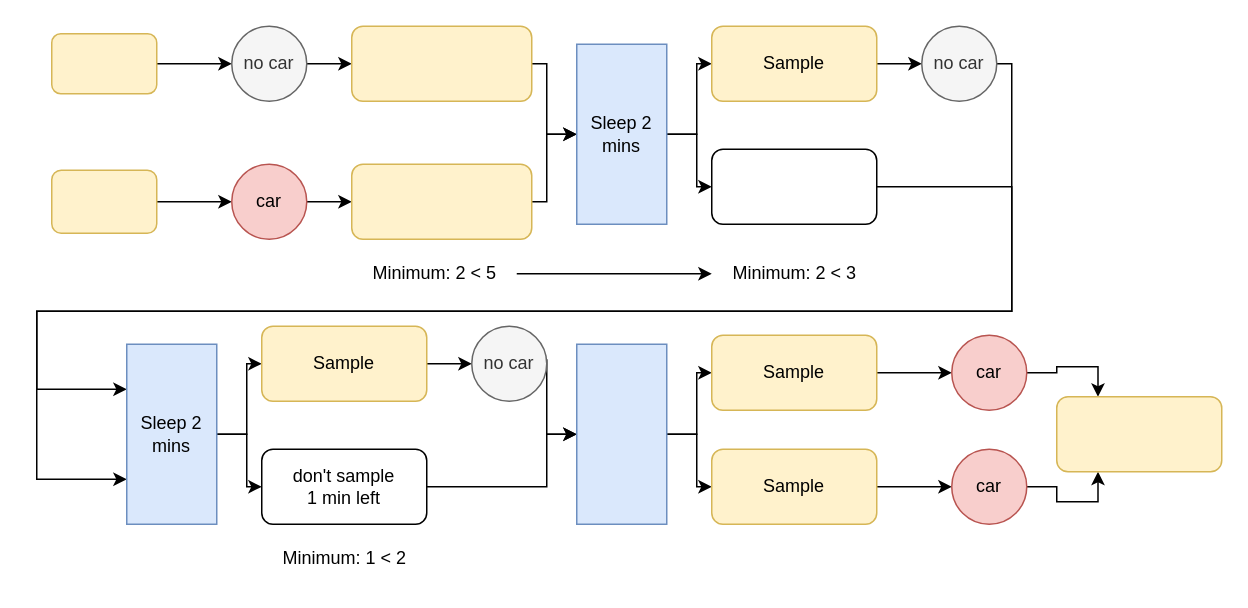
Some shapes in this 1248 by 608 pixel diagram are drawn without their labels. Each missing label, with the box of its shape:
don't sample 3 mins left: (710, 148, 877, 224)
sample each 2 mins: (350, 25, 532, 101)
sample each 5 mins: (350, 163, 532, 239)
Sample every 5 min: (1055, 395, 1222, 472)
Sampling Parking 1: (50, 32, 157, 94)
Sampling Parking 2: (50, 169, 157, 233)
Sleep 1 min: (575, 343, 667, 524)
